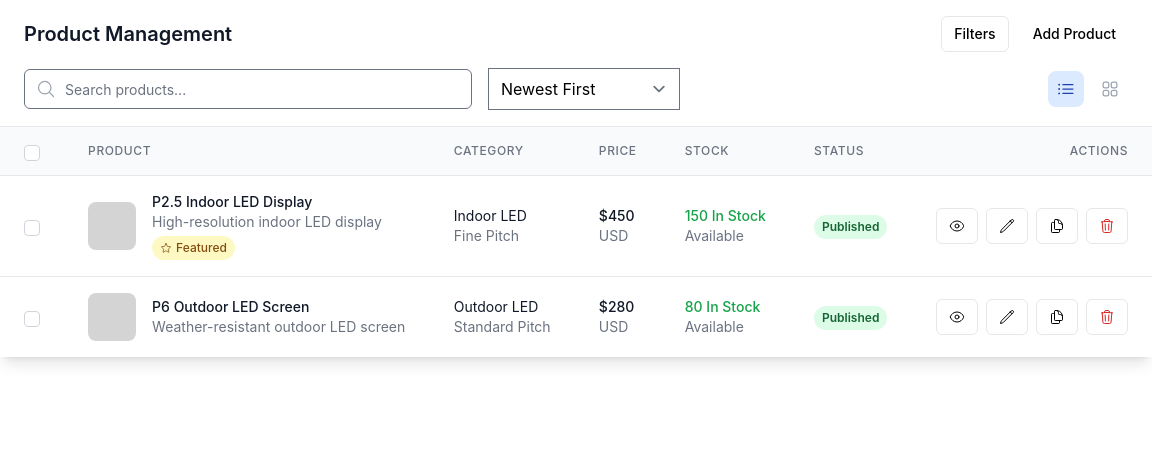
Test case: ProductManagement › handles select all functionality
# Select all
Click the checkbox in the row of "Category" at [32, 153], box x1=24 y1=145 x2=40 y2=161
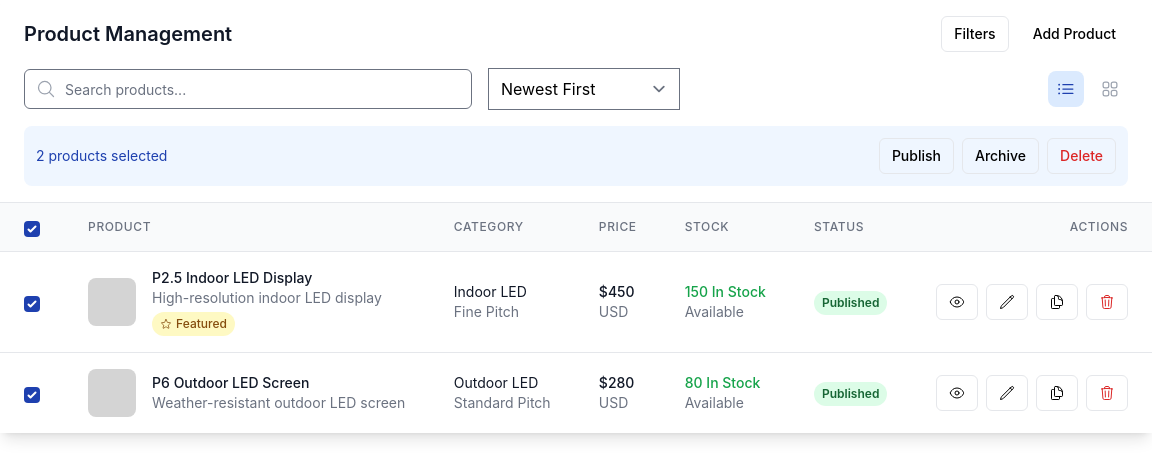
Check: the text "2 products selected" is shown, box x1=36 y1=146 x2=167 y2=166
